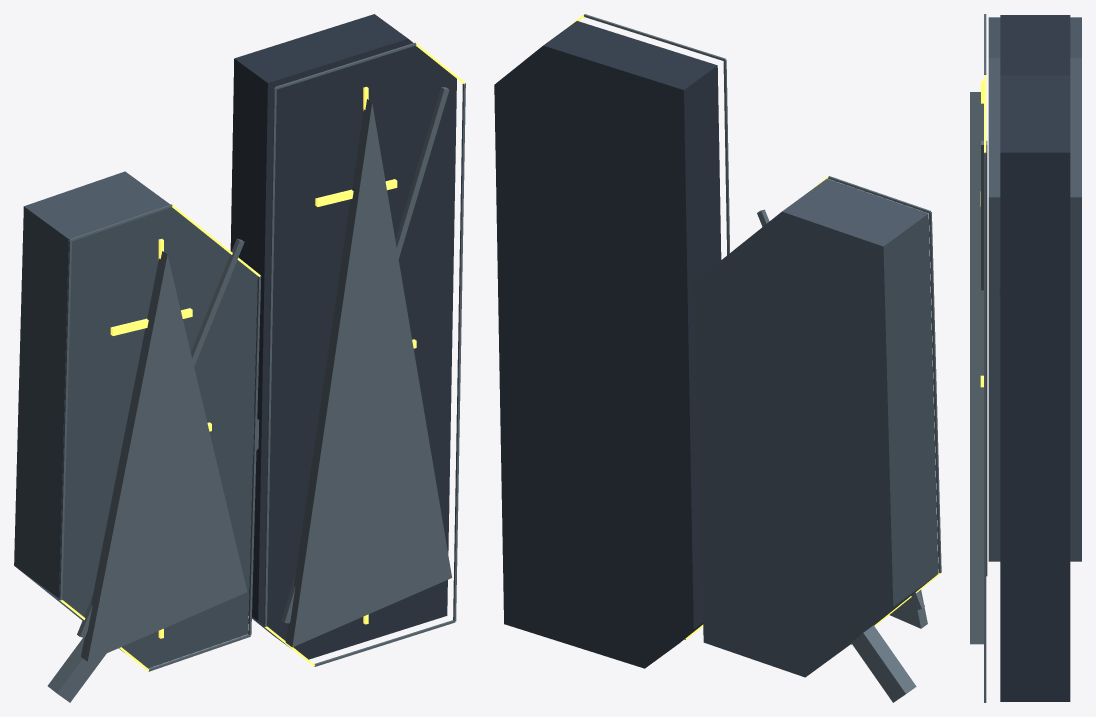
The model's file is broken_baffle_2.glb.
The picture shows the model from 3 angles, left to right: view 1: azimuth 30°, elevation 25°; view 2: azimuth 150°, elevation 25°; view 3: azimuth 270°, elevation 25°; orthographic projection. The views are drawn at different scales.
Visible parts, largest first — view 1: broken_baffle_2; view 2: broken_baffle_2; view 3: broken_baffle_2.
Boxes of the visible parts, box(x1,y1,x2,y2) form: broken_baffle_2: box(14, 14, 465, 702); broken_baffle_2: box(494, 14, 941, 702); broken_baffle_2: box(970, 14, 1081, 702).
Size of the model in its own units: 41.6 by 58.7 by 9.6.
